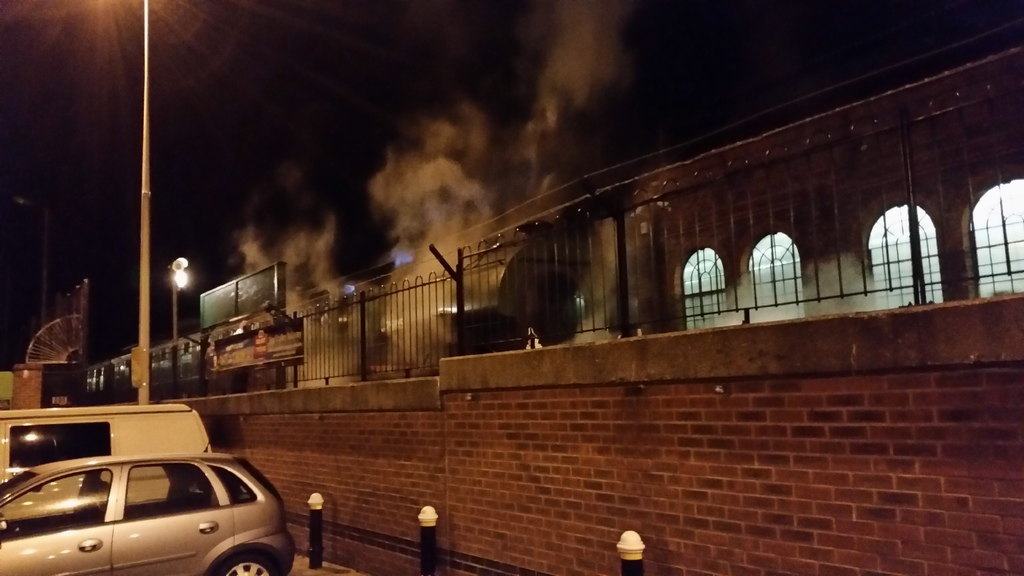Car: (0, 432, 300, 576)
